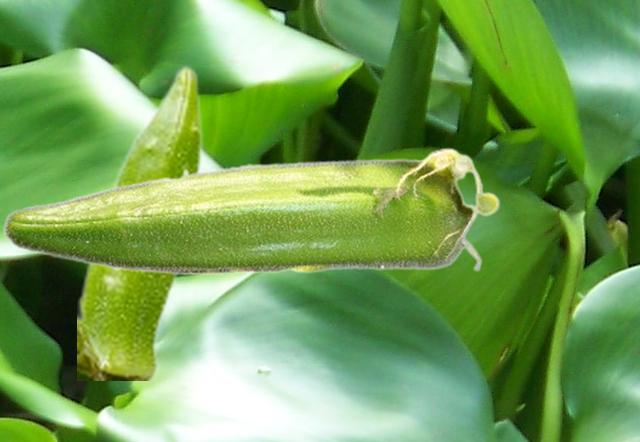okra: (2, 146, 499, 275), (77, 63, 203, 379)
